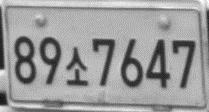4: (145, 38, 171, 89)
6: (119, 38, 143, 87)
7: (171, 39, 196, 89), (91, 37, 115, 86)
8: (13, 36, 36, 83)
9: (38, 35, 61, 85)
소: (65, 46, 88, 86)
